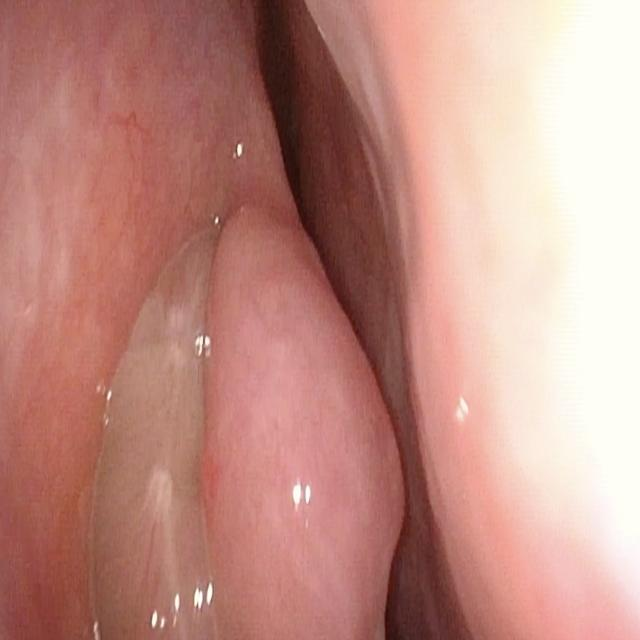POLYPS: (85, 211, 230, 640)
